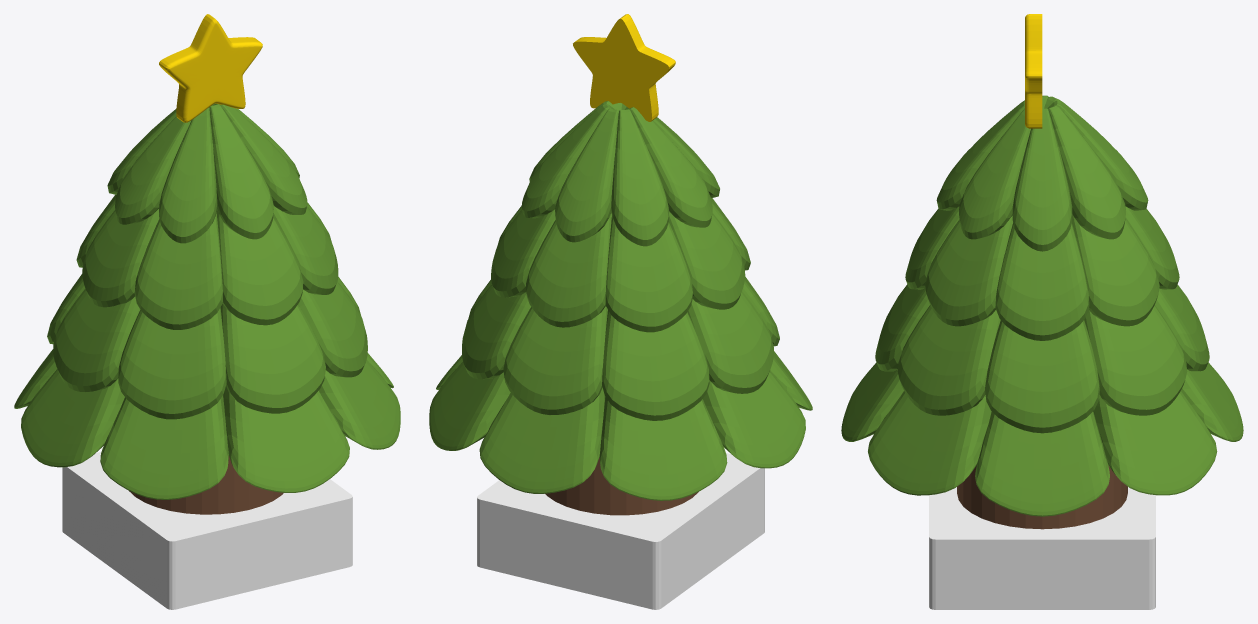
Rendered from cap_tree_w.glb.
The picture shows the model from 3 angles, left to right: view 1: azimuth 30°, elevation 25°; view 2: azimuth 150°, elevation 25°; view 3: azimuth 270°, elevation 25°; orthographic projection. The views are drawn at different scales.
Visible parts, largest first — view 1: Plane.063, Plane.062, Cube.079, Plane.061, Plane.060, Circle.036, Circle.037; view 2: Plane.063, Plane.062, Cube.079, Plane.061, Plane.060, Circle.036, Circle.037; view 3: Plane.063, Plane.062, Plane.061, Cube.079, Plane.060, Circle.037, Circle.036.
Boxes of the visible parts, bbox=[...] form: Plane.063: bbox=[14, 349, 400, 499]; Plane.062: bbox=[47, 274, 367, 419]; Cube.079: bbox=[62, 451, 352, 609]; Plane.061: bbox=[76, 195, 338, 329]; Plane.060: bbox=[107, 103, 307, 243]; Circle.036: bbox=[159, 14, 262, 122]; Circle.037: bbox=[129, 456, 283, 514]; Plane.063: bbox=[429, 351, 812, 500]; Plane.062: bbox=[462, 276, 779, 420]; Cube.079: bbox=[477, 453, 764, 609]; Plane.061: bbox=[491, 198, 750, 332]; Plane.060: bbox=[521, 101, 719, 246]; Circle.036: bbox=[573, 14, 675, 121]; Circle.037: bbox=[545, 457, 698, 515]; Plane.063: bbox=[841, 362, 1243, 516]; Plane.062: bbox=[875, 284, 1209, 433]; Plane.061: bbox=[905, 206, 1179, 340]; Cube.079: bbox=[929, 487, 1155, 609]; Plane.060: bbox=[936, 95, 1148, 251]; Circle.037: bbox=[957, 465, 1127, 529]; Circle.036: bbox=[1025, 14, 1042, 128].
Bounding box in the file's own units: 31.04 × 46.8 × 31.04.
